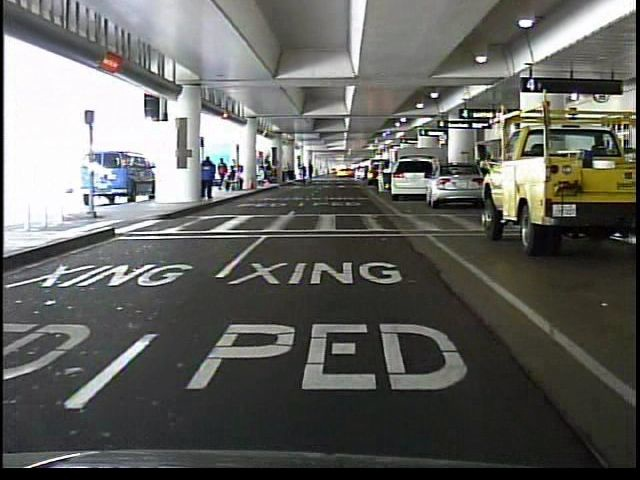person: (198, 153, 218, 203)
